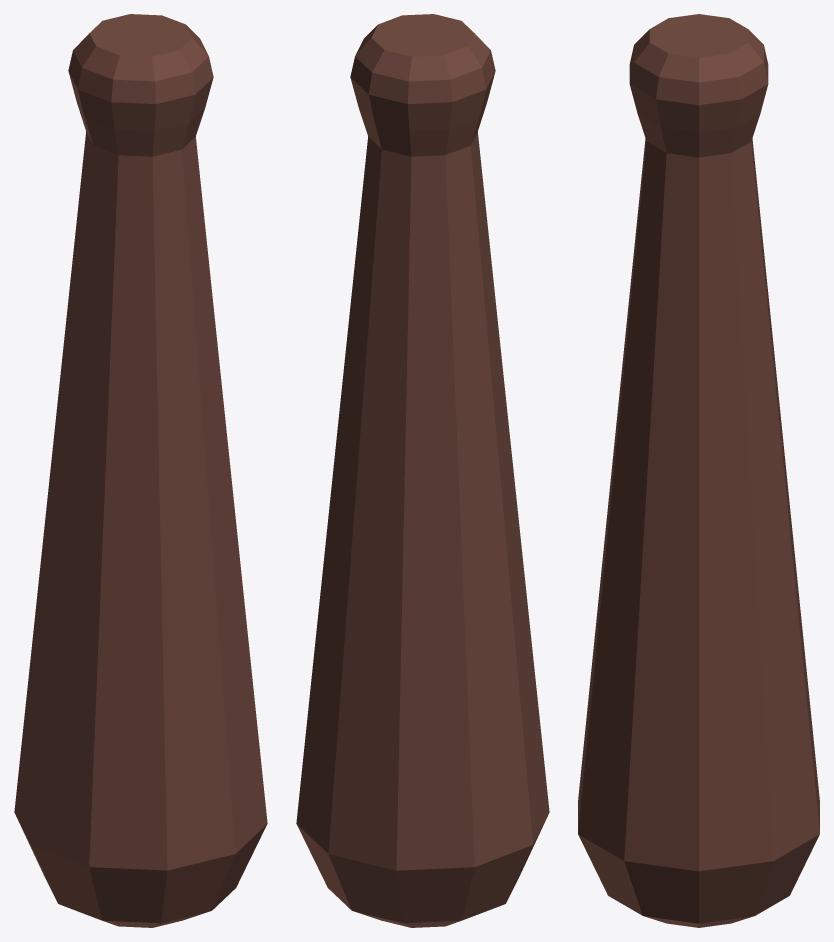
Rendered from pessel.fbx.
3 renders of one model, left to right at view 1: azimuth 30°, elevation 25°; view 2: azimuth 150°, elevation 25°; view 3: azimuth 270°, elevation 25°, orthographic.
Visible parts, largest first — view 1: pessel; view 2: pessel; view 3: pessel.
Part boxes in pixels (<box>): pessel: <box>14,14,267,927</box>; pessel: <box>296,14,549,927</box>; pessel: <box>578,14,819,927</box>.
Bounding box in the file's own units: 0.5917 × 2.23 × 0.5627.
